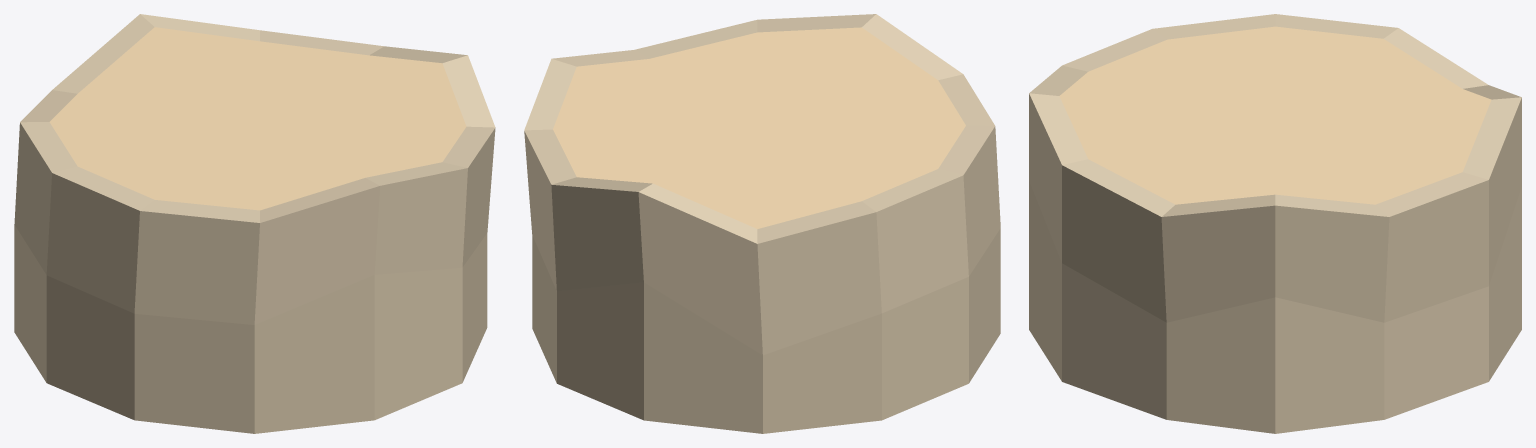
File: Stump_Birch.fbx
3 renders of one model, left to right at view 1: azimuth 30°, elevation 25°; view 2: azimuth 150°, elevation 25°; view 3: azimuth 270°, elevation 25°, orthographic. The views are drawn at different scales.
Parts seen in each view (by area): view 1: Circle.002; view 2: Circle.002; view 3: Circle.002.
Part boxes in pixels (x1,y1,x2,y2): Circle.002: (14,14,495,433); Circle.002: (524,14,1000,433); Circle.002: (1029,14,1521,433).
Bounding box in the file's own units: 281 × 149 × 277.
